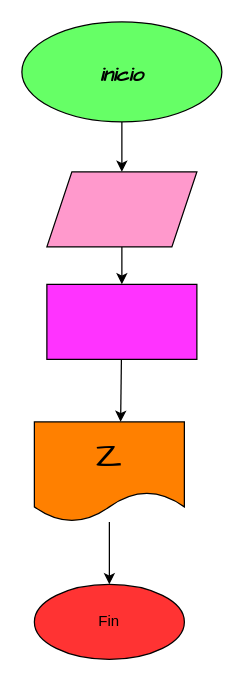
This 244x681 diagram has some shape labels left out. Here are the shapes that lost their labels. From the top down, the centre of each, then its label:
At point 121,209: "x,y".
At point 121,321: "Z=X^Y".
